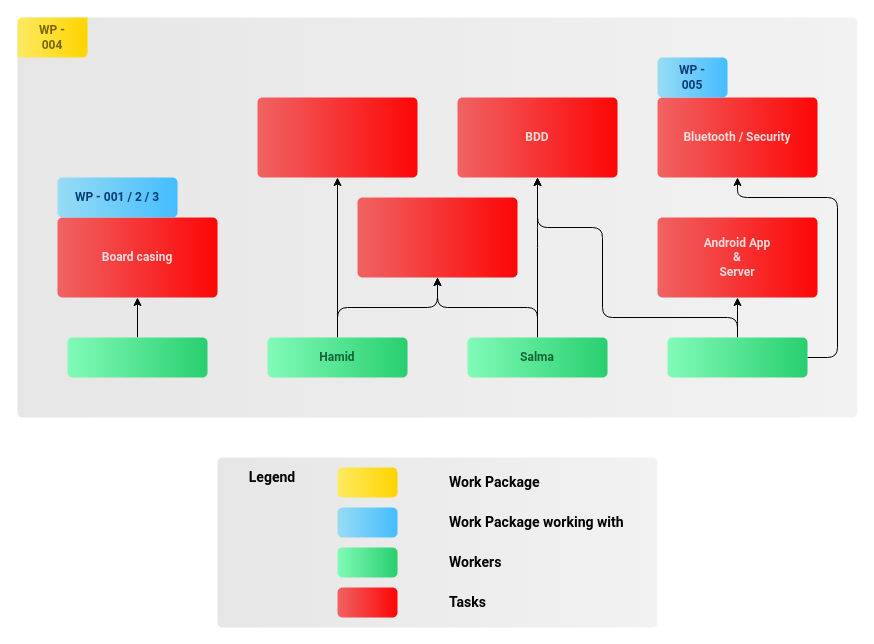
Image size: 874x644. Some labels were removed from this diagram. Each missing label, with the centre of its shape:
Axel: the point at 737,357
Liam: the point at 137,357
Persona: the point at 437,237
QR Code generator: the point at 337,137
